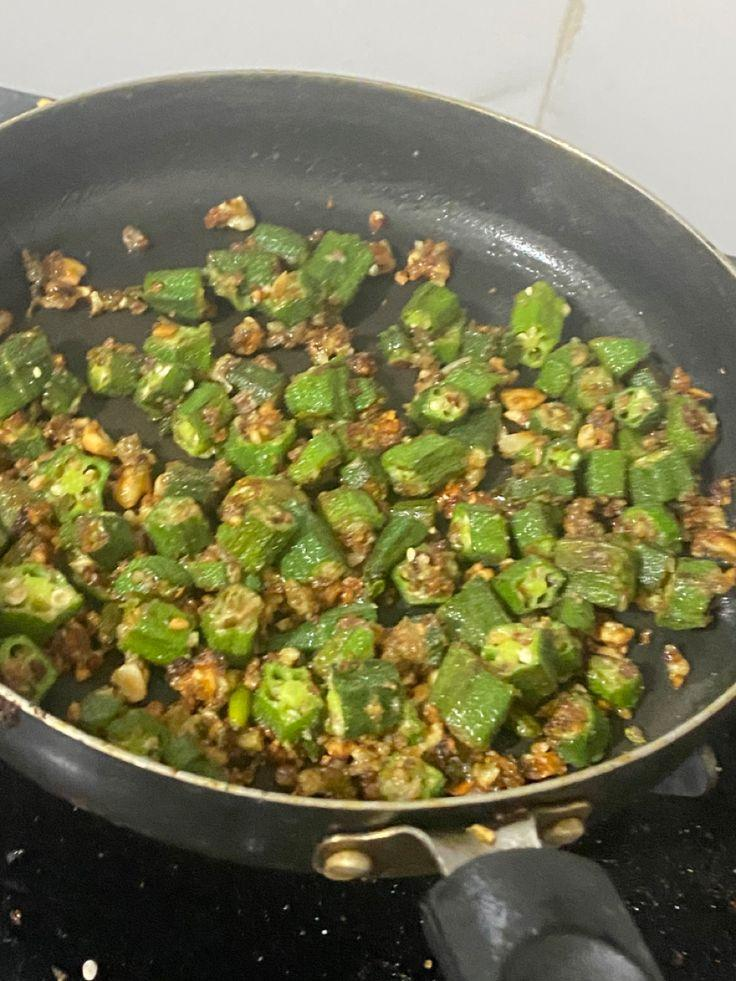bhindi: (3, 328, 732, 719)
